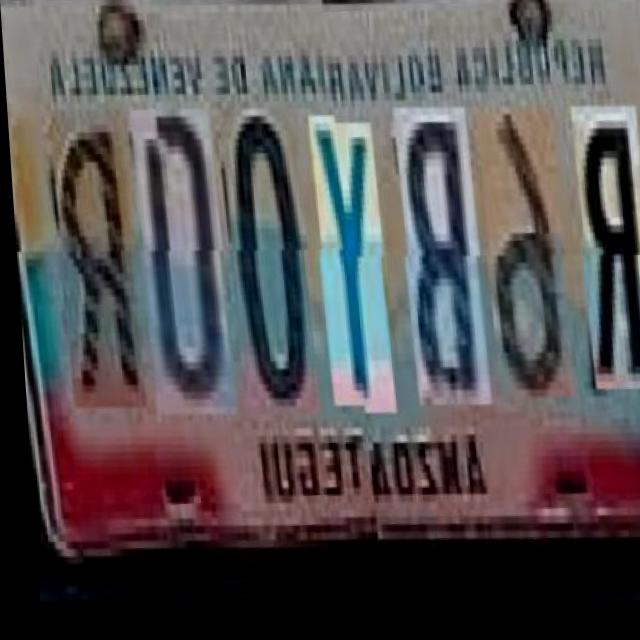0: (123, 121, 227, 436)
6: (468, 112, 567, 411)
b: (386, 112, 482, 419)
o: (211, 114, 313, 435)
r: (42, 121, 138, 429), (564, 111, 640, 402)
y: (301, 129, 387, 426)
